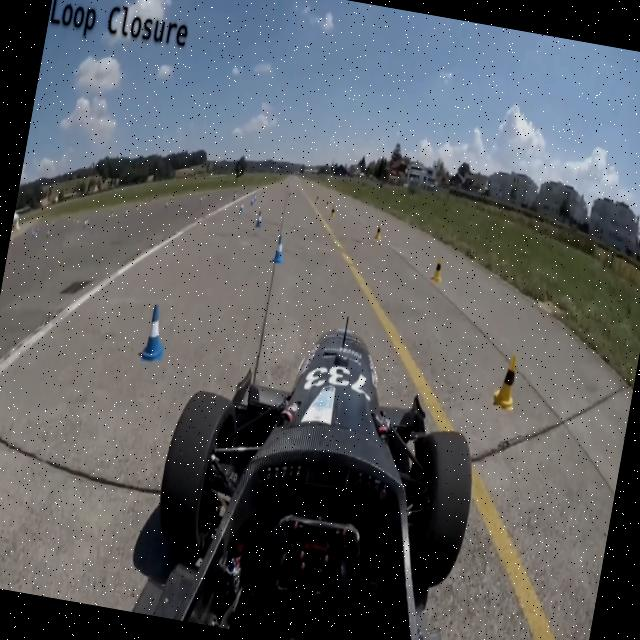blue_cone: (136, 302, 173, 366), (270, 233, 288, 266), (253, 210, 264, 228), (238, 202, 244, 214), (252, 192, 257, 202), (250, 197, 254, 206)
yellow_cone: (490, 350, 523, 413), (431, 256, 445, 284), (374, 222, 384, 240), (329, 204, 336, 218), (324, 200, 328, 209)
